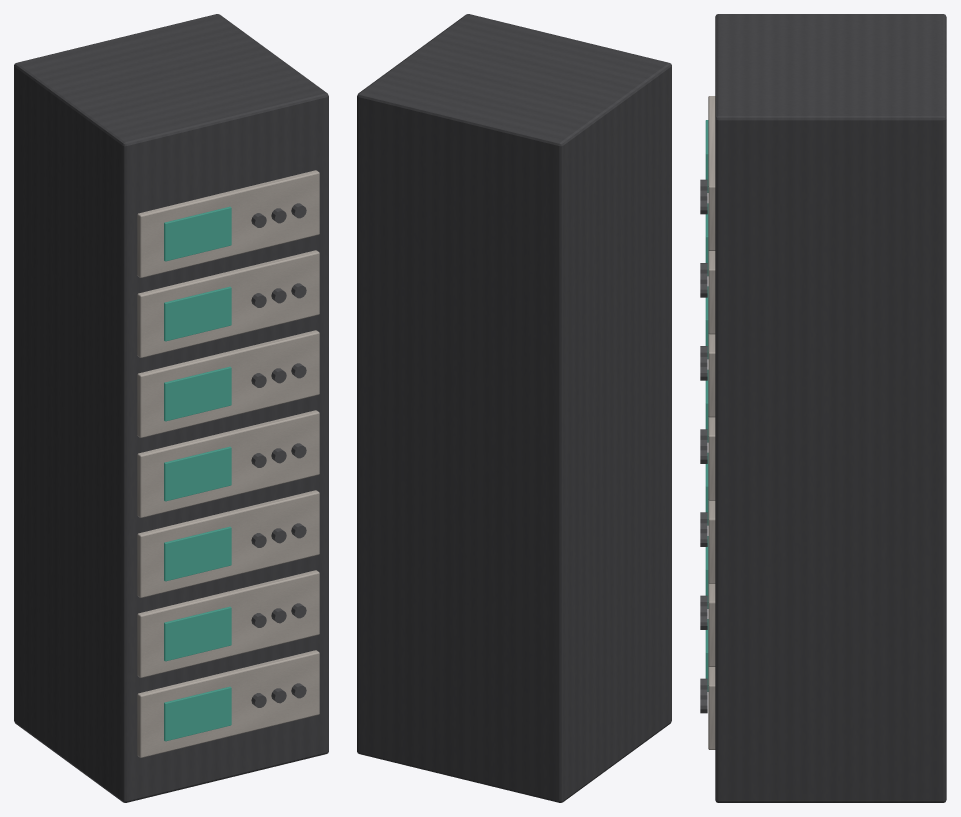
File: electronics_rack.glb
3 renders of one model, left to right at view 1: azimuth 30°, elevation 25°; view 2: azimuth 150°, elevation 25°; view 3: azimuth 270°, elevation 25°, orthographic. The views are drawn at different scales.
Visible parts, largest first — view 1: rack_body, instrument_panel.006, instrument_panel, instrument_panel.003, instrument_panel.004, instrument_panel.001, instrument_panel.002, instrument_panel.005, display.001, display.002, display.004, display.005 (+3 smaller); view 2: rack_body; view 3: rack_body, instrument_panel.006, instrument_panel.003, instrument_panel.001, instrument_panel.004, instrument_panel.005, instrument_panel.002, instrument_panel.
Part boxes in pixels (box(x1,y1,x2,y2)): rack_body: box(14, 14, 328, 802); instrument_panel.006: box(137, 170, 319, 277); instrument_panel: box(137, 650, 319, 757); instrument_panel.003: box(137, 410, 319, 517); instrument_panel.004: box(137, 330, 319, 437); instrument_panel.001: box(137, 570, 319, 677); instrument_panel.002: box(137, 490, 319, 597); instrument_panel.005: box(137, 250, 319, 357); display.001: box(164, 606, 231, 661); display.002: box(164, 526, 231, 581); display.004: box(164, 366, 231, 421); display.005: box(164, 286, 231, 341); rack_body: box(357, 14, 671, 802); rack_body: box(715, 14, 946, 802); instrument_panel.006: box(708, 96, 715, 250); instrument_panel.003: box(708, 416, 715, 500); instrument_panel.001: box(708, 583, 715, 666); instrument_panel.004: box(708, 333, 715, 417); instrument_panel.005: box(708, 250, 715, 334); instrument_panel.002: box(708, 500, 715, 583); instrument_panel: box(708, 666, 715, 749).
Bounding box in the file's own units: 0.62 × 1.9 × 0.617.
Materials: 4 (3 with a texture image).
